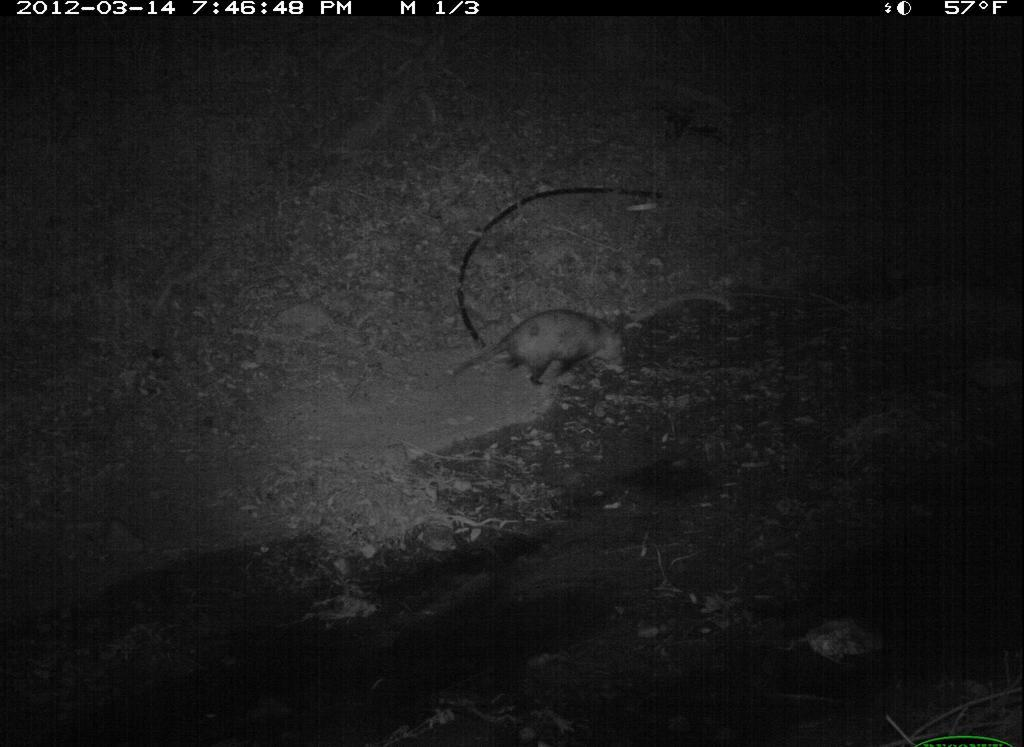opossum: (437, 295, 649, 405)
